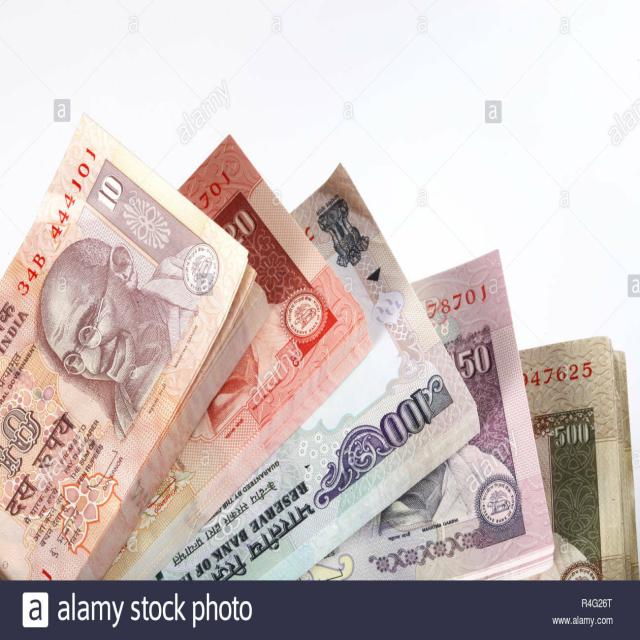10IndianRupees: (2, 116, 245, 578)
